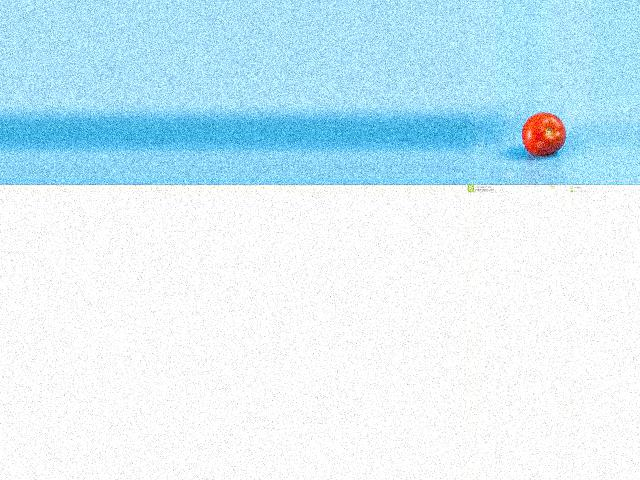tomato: (522, 113, 566, 155)
